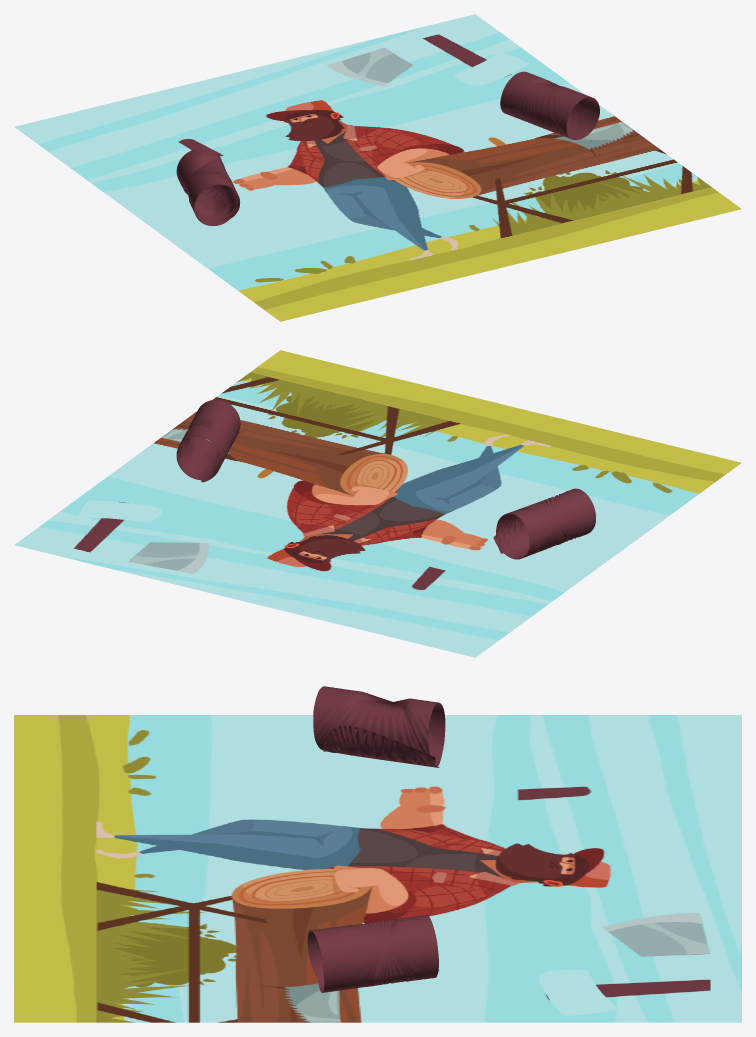
The model's file is Level 152 Roll sandal Strap.fbx.
3 renders of one model, top to bottom at view 1: azimuth 30°, elevation 25°; view 2: azimuth 150°, elevation 25°; view 3: azimuth 270°, elevation 25°, orthographic. The views are drawn at different scales.
Visible parts, largest first — view 1: Mesh, Blend1, Blend; view 2: Mesh, Blend, Blend1; view 3: Mesh, Blend, Blend1.
Boxes of the visible parts, left/top/right/bottom form: Mesh: left=14, top=14, right=741, bottom=321; Blend1: left=500, top=71, right=599, bottom=139; Blend: left=176, top=148, right=240, bottom=225; Mesh: left=14, top=350, right=741, bottom=657; Blend: left=493, top=488, right=595, bottom=559; Blend1: left=176, top=399, right=240, bottom=482; Mesh: left=14, top=715, right=741, bottom=1022; Blend: left=313, top=686, right=445, bottom=767; Blend1: left=307, top=915, right=439, bottom=992.
Size of the model in its own units: 2400 by 214 by 2400.
